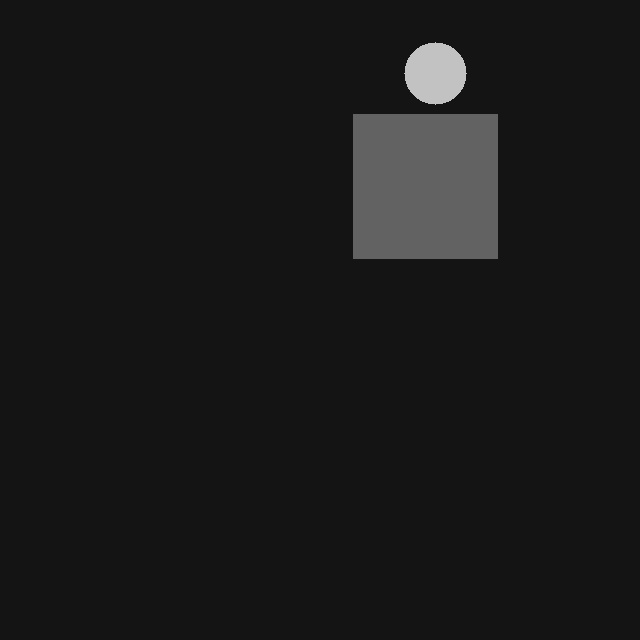circle: (404, 42, 466, 104)
square: (353, 114, 497, 258)
